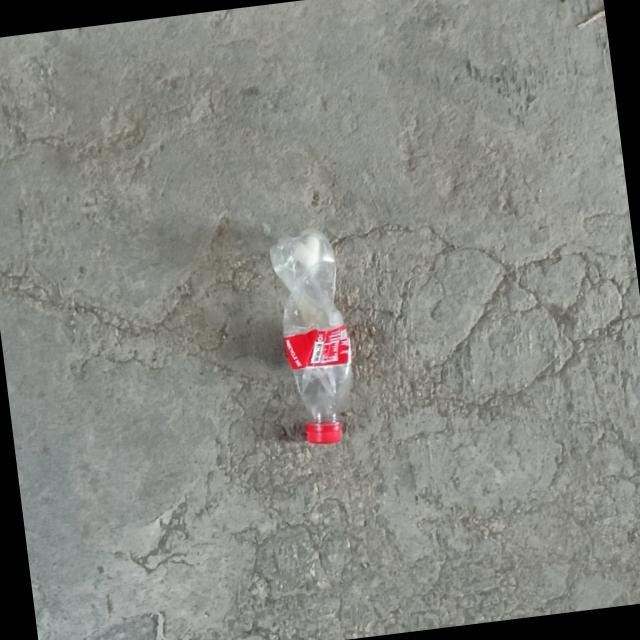Bottle: (268, 229, 350, 444)
